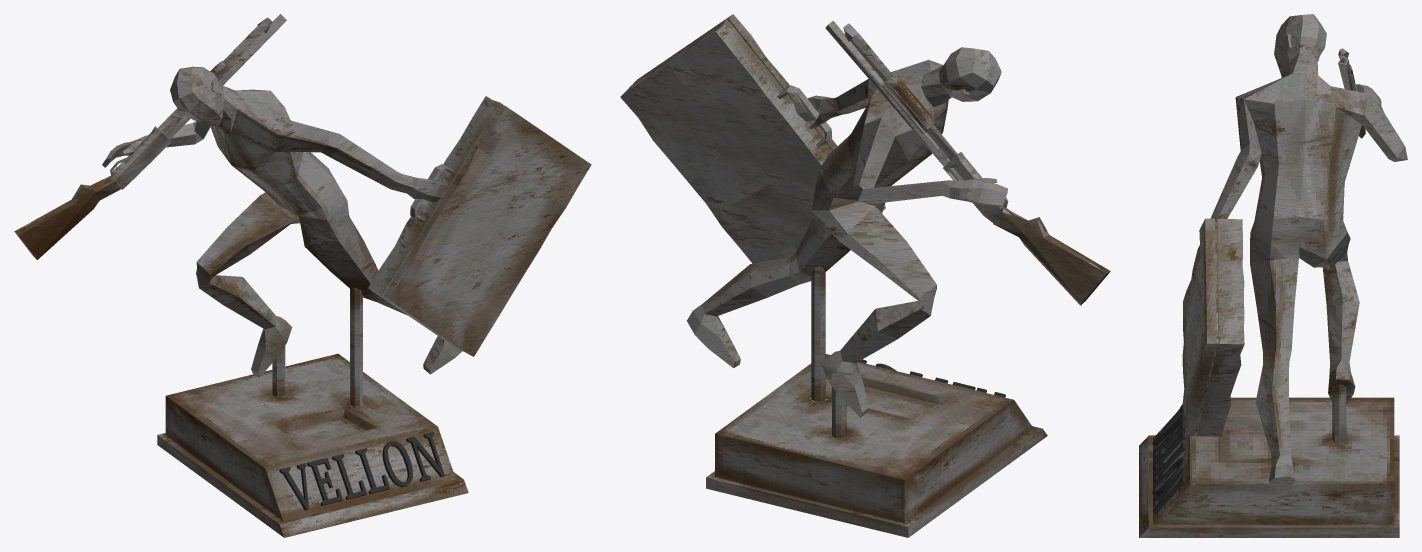
Rendered from vellon statue1.glb.
3 views of the same model, side by side, from view 1: azimuth 30°, elevation 25°; view 2: azimuth 150°, elevation 25°; view 3: azimuth 270°, elevation 25° (orthographic). The views are drawn at different scales.
Visible parts, largest first — view 1: Cube; view 2: Cube; view 3: Cube.
Part boxes in pixels (bbox=[...]): Cube: bbox=[14, 14, 591, 537]; Cube: bbox=[620, 14, 1110, 537]; Cube: bbox=[1139, 14, 1407, 537].
Size of the model in its own units: 10.45 by 8.5 by 4.73.
Materials: 2 (1 with a texture image).
